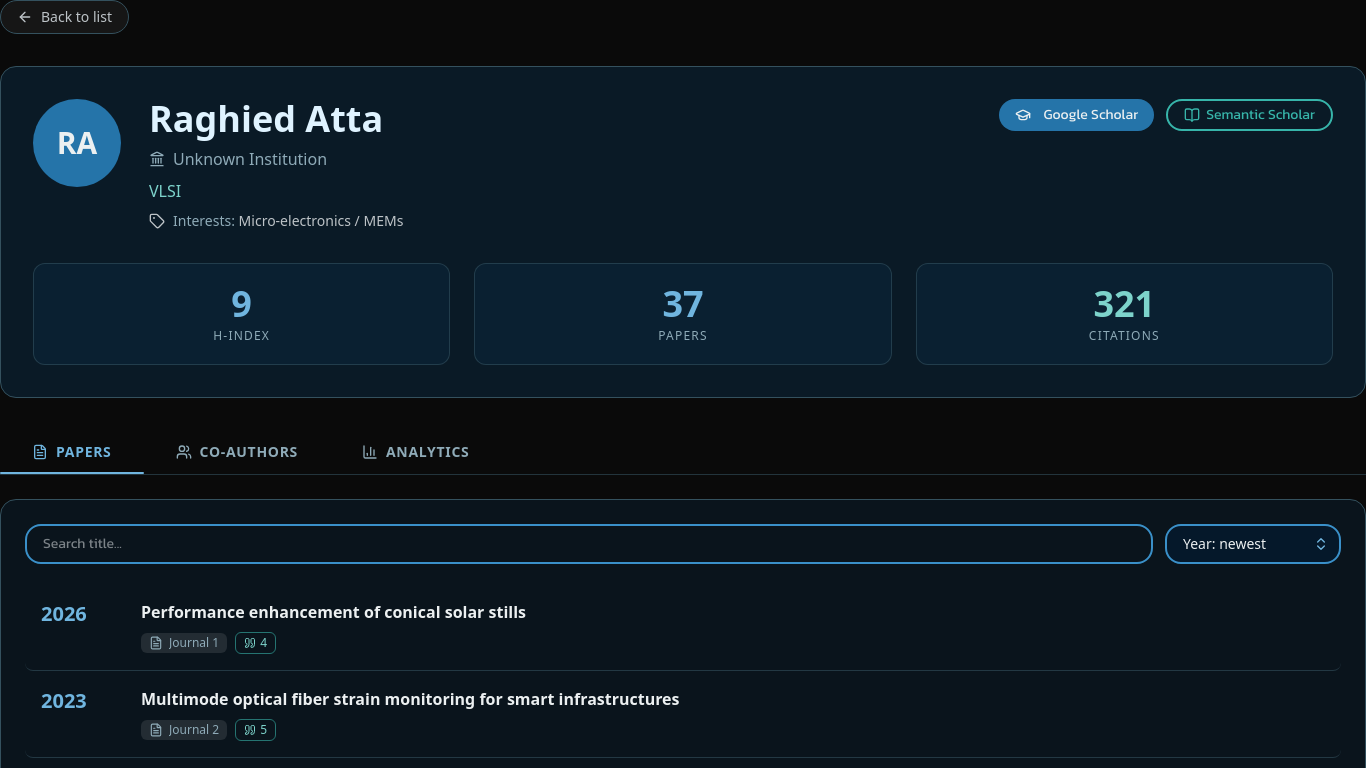
Test: Co-Authors tab › shows an empty state with no co-authors
Expected: the text "321" is shown, [1093, 284, 1155, 324]
Click the tab "Co-Authors". click: (237,452)
box: [144, 430, 330, 474]
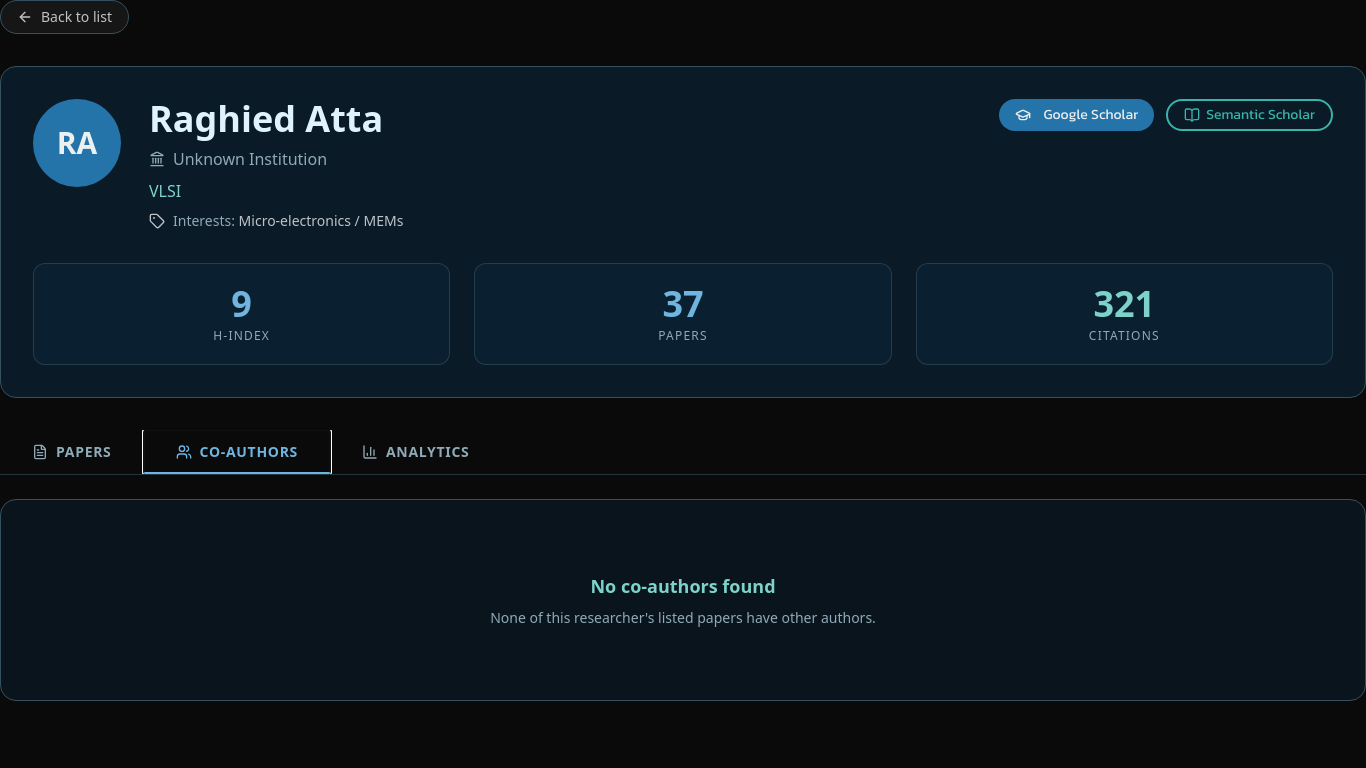
Expected: the text "No co-authors found" is shown, [590, 572, 776, 600]
